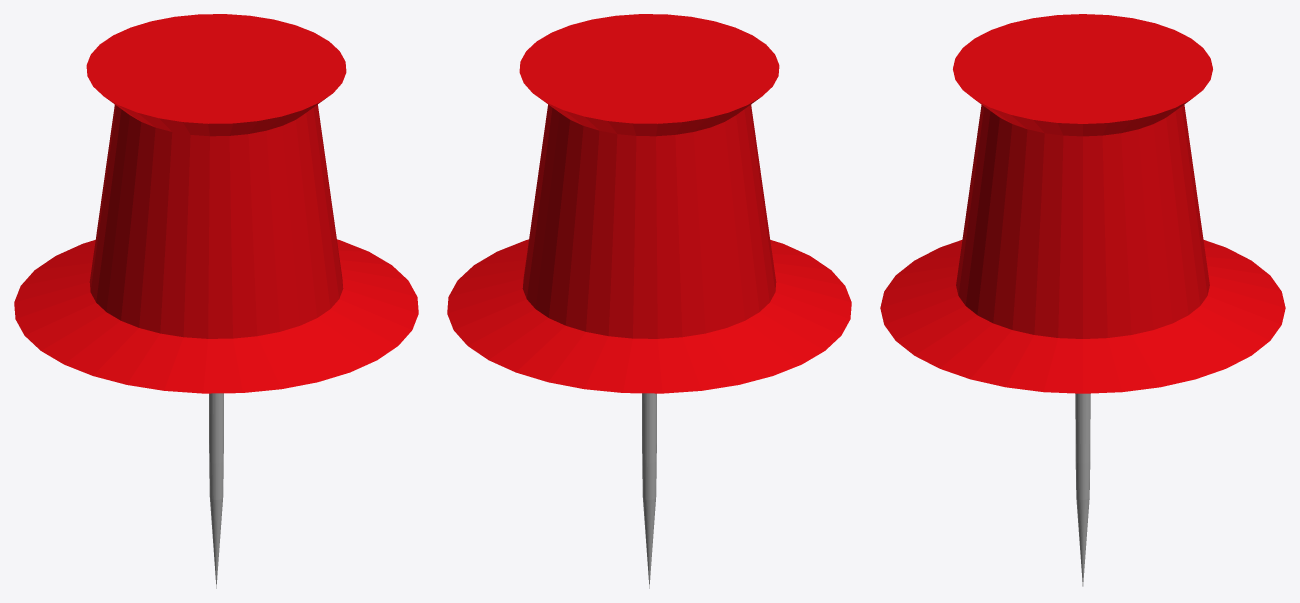
Rendered from Pushpin.fbx.
3 renders of one model, left to right at view 1: azimuth 30°, elevation 25°; view 2: azimuth 150°, elevation 25°; view 3: azimuth 270°, elevation 25°, orthographic.
Visible parts, largest first — view 1: 円柱; view 2: 円柱; view 3: 円柱.
Boxes of the visible parts, x1=… form: 円柱: x1=14, y1=14, x2=418, y2=588; 円柱: x1=447, y1=14, x2=851, y2=588; 円柱: x1=880, y1=14, x2=1285, y2=586.
Size of the model in its own units: 1.46 by 2.07 by 1.46.
